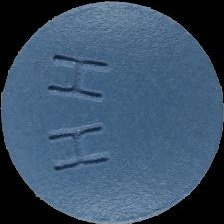43547-274: (0, 0, 224, 224)
